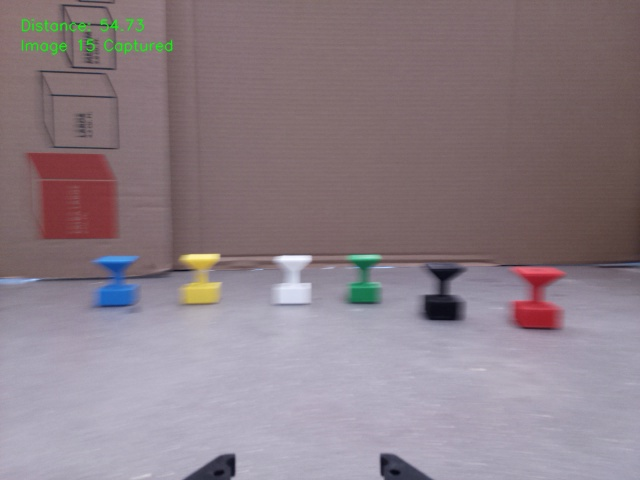block: (510, 267, 567, 330), (92, 255, 141, 307), (423, 262, 466, 320), (272, 254, 315, 306), (178, 254, 222, 304), (345, 254, 385, 303)
